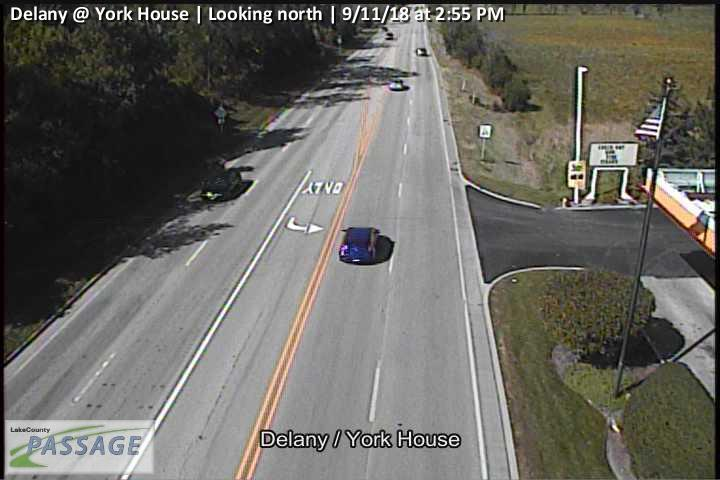SUV: (201, 167, 241, 200)
Sedan: (339, 225, 380, 263), (390, 79, 403, 89), (415, 47, 427, 56), (384, 32, 394, 39)
